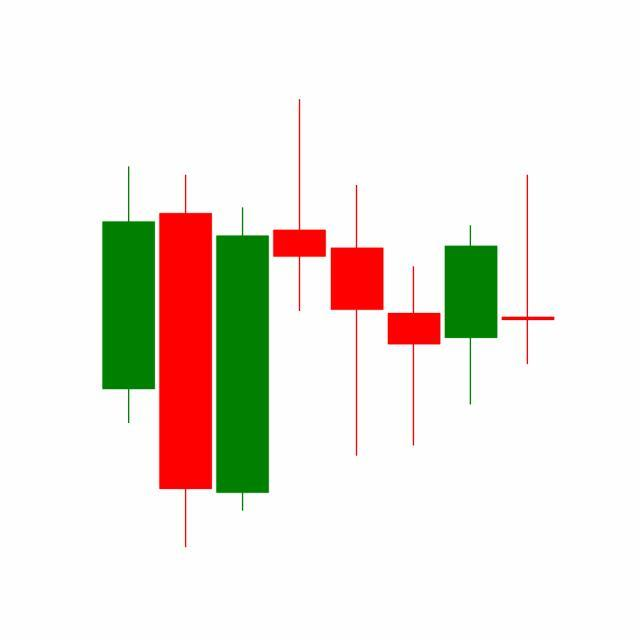Hikkake Pattern: (214, 99, 501, 517)
